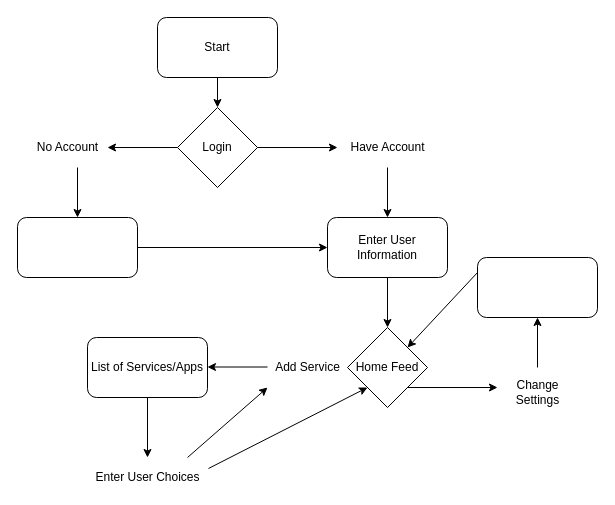
This 615x505 diagram has some shape labels left out. Here are the shapes that lost their labels. From the top down, the centre of each, then its label:
At point 77,247: "Create Account".
At point 537,287: "Settings Menu".
